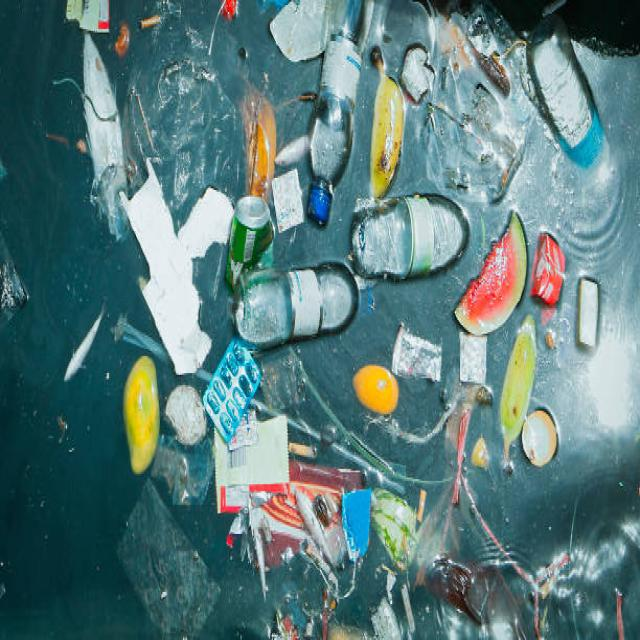garbage: (118, 352, 404, 604), (386, 320, 580, 634), (196, 184, 362, 356), (111, 131, 226, 369), (453, 217, 615, 343), (504, 10, 618, 188), (284, 10, 386, 207), (344, 189, 490, 285)
